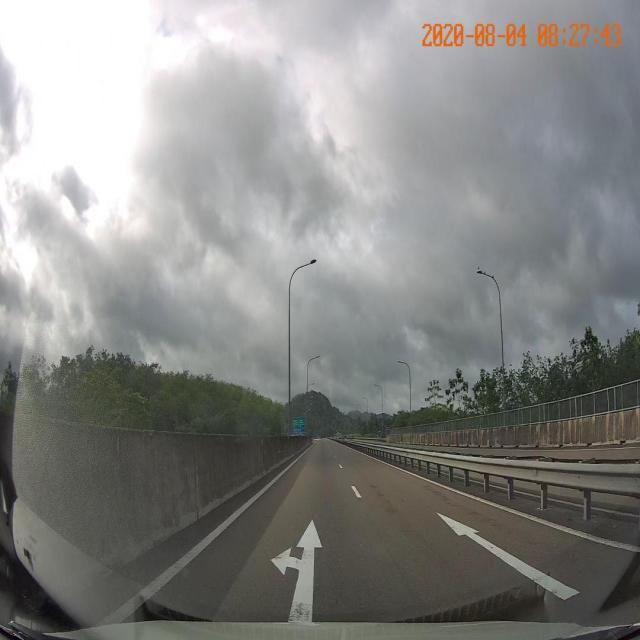Liniya 1: (91, 448, 309, 624), (358, 451, 630, 553), (350, 485, 363, 499), (338, 464, 344, 469)
Strelka vpered: (433, 510, 583, 603)
Strelka vpered - vlevo: (268, 517, 324, 624)
